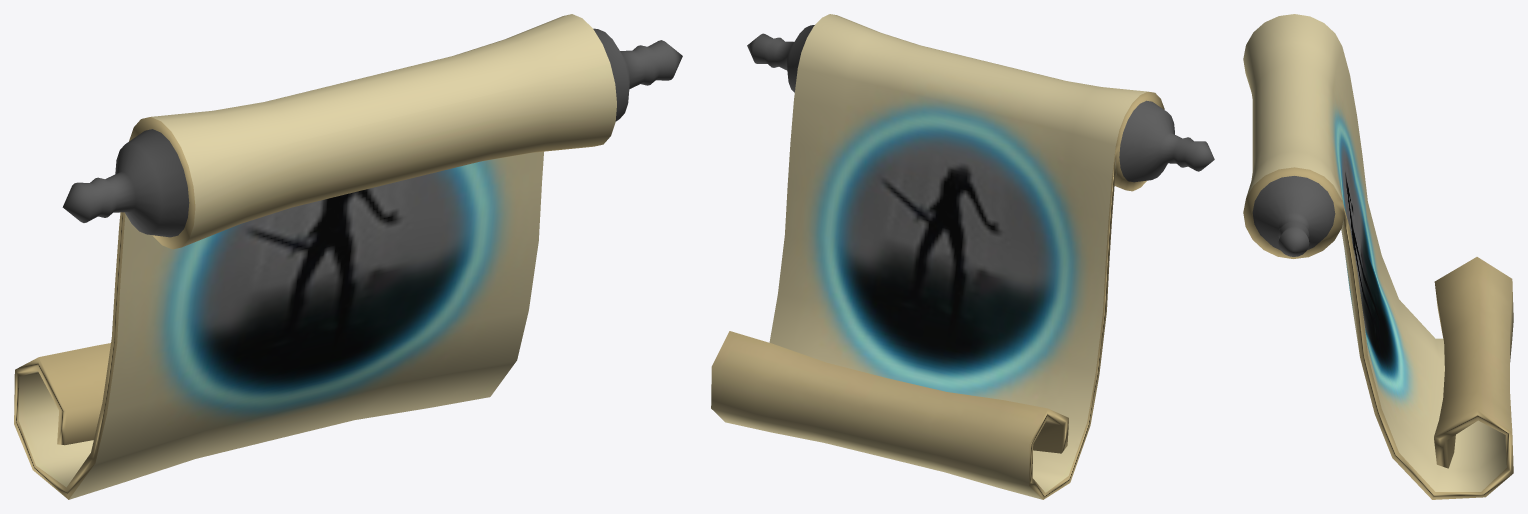
The model's file is KnockbackAbility.obj.
The picture shows the model from 3 angles, left to right: view 1: azimuth 30°, elevation 25°; view 2: azimuth 150°, elevation 25°; view 3: azimuth 270°, elevation 25°; orthographic projection. The views are drawn at different scales.
Size of the model in its own units: 9.06 by 6.23 by 4.59.
